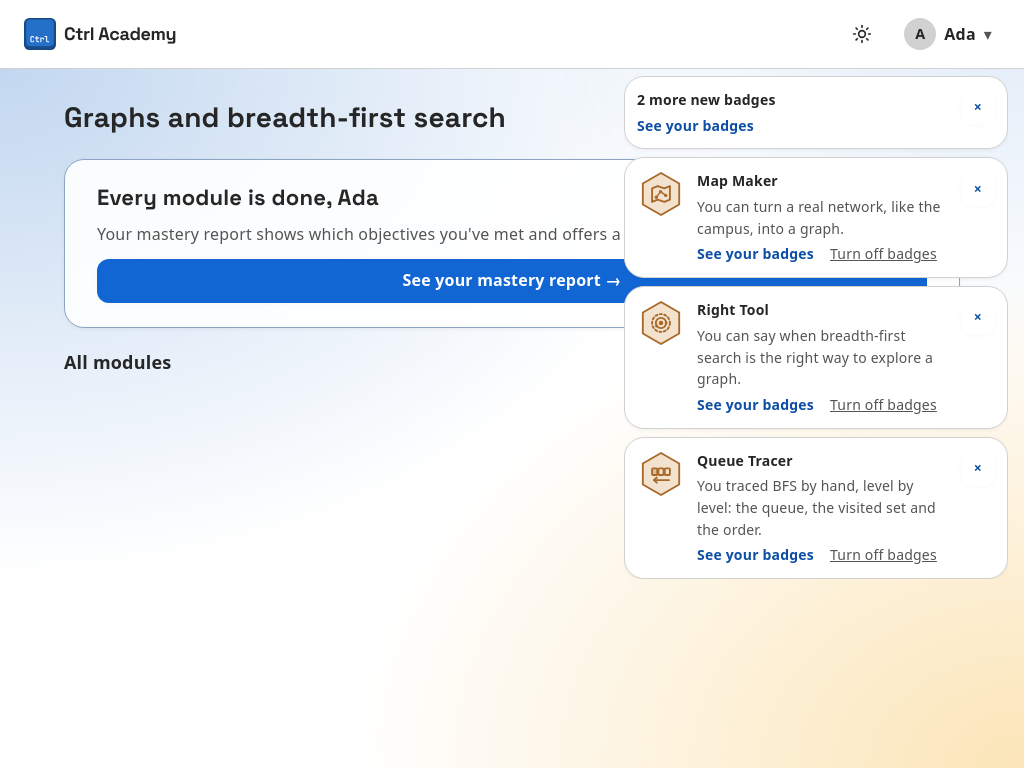
Test case: Badge announcements › collapses a burst of badges into a "more" line
expect the text "2 more new badges" is shown: met, box [637,90,776,109]
expect the text "Queue Tracer" is shown: met, box [697,451,793,470]
Click the button named "Dismiss all" at {"x": 978, "y": 107}, box [961,89,995,125]
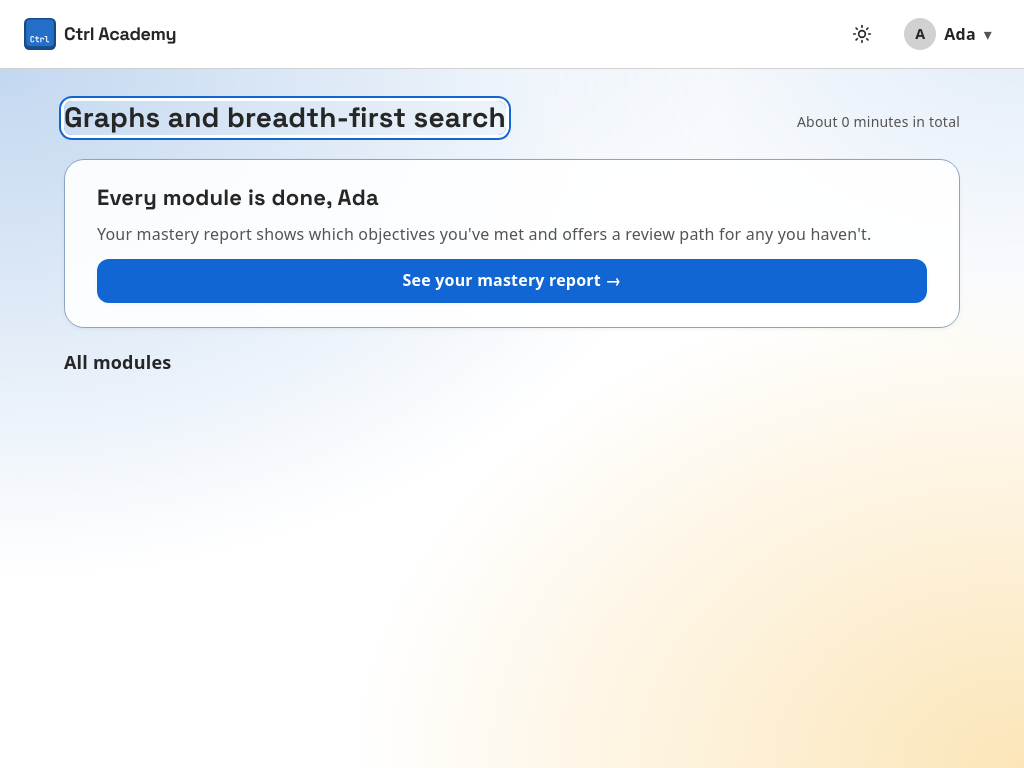
expect the text "Queue Tracer" is gone: met
